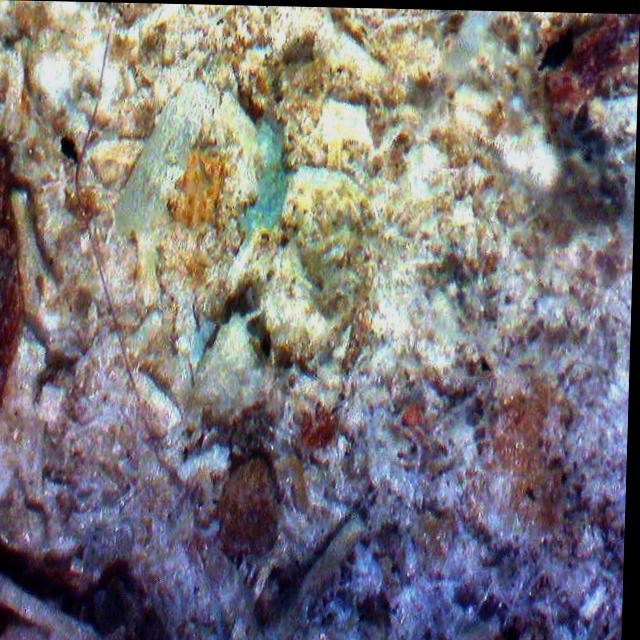microplastic: (51, 30, 189, 497), (239, 106, 299, 239)
